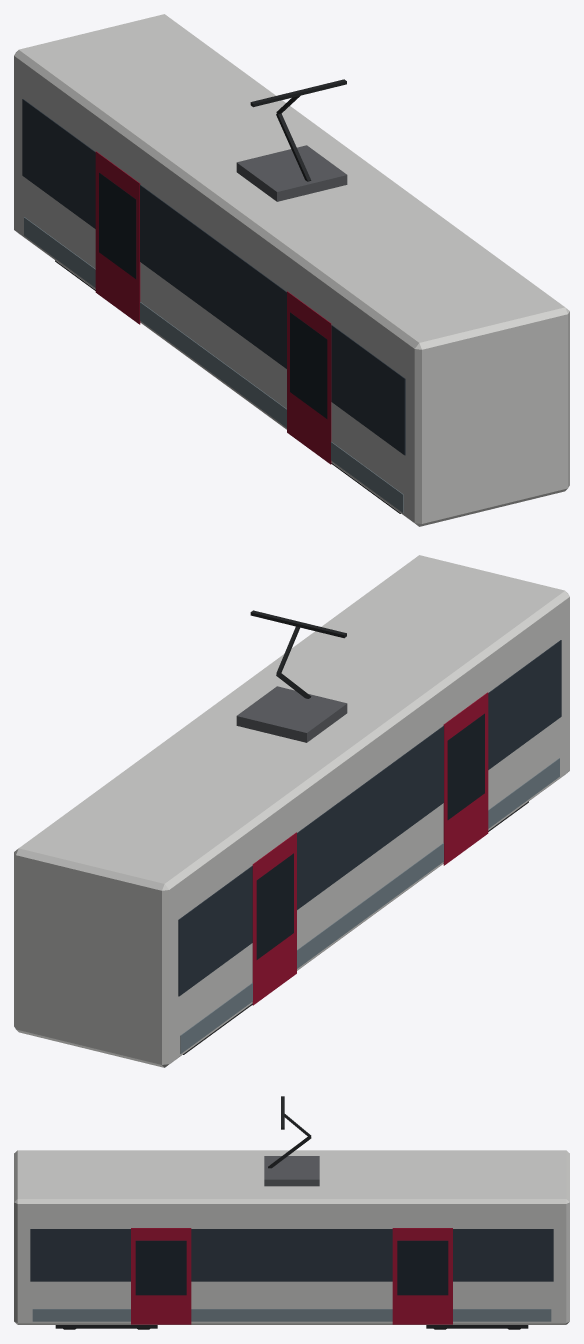
Rendered from rame_intermediaire.glb.
3 views of the same model, one above another, from view 1: azimuth 30°, elevation 25°; view 2: azimuth 150°, elevation 25°; view 3: azimuth 270°, elevation 25° (orthographic). The views are drawn at different scales.
Parts seen in each view (by area): view 1: rame_intermediaire; view 2: rame_intermediaire; view 3: rame_intermediaire.
Boxes of the visible parts, x1,y1,x2,y2 form: rame_intermediaire: (14,14,569,526); rame_intermediaire: (14,555,569,1067); rame_intermediaire: (14,1096,569,1329).
Bounding box in the file's own units: 2.69 × 4.83 × 12.
